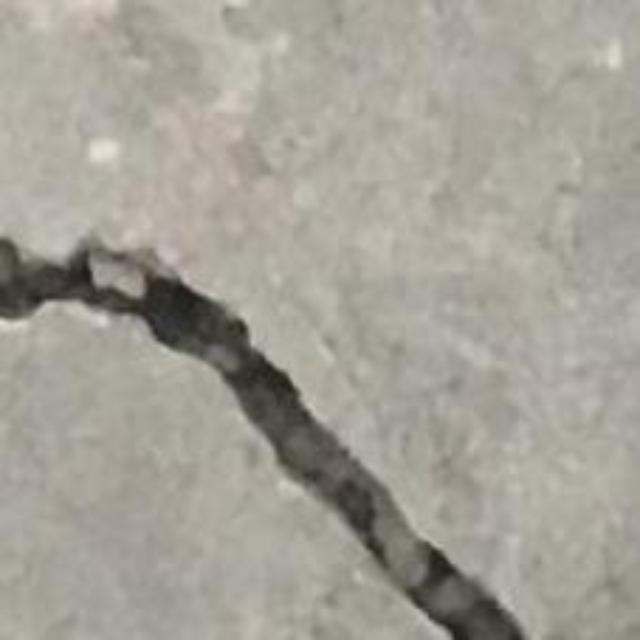crack: (0, 237, 527, 639)
